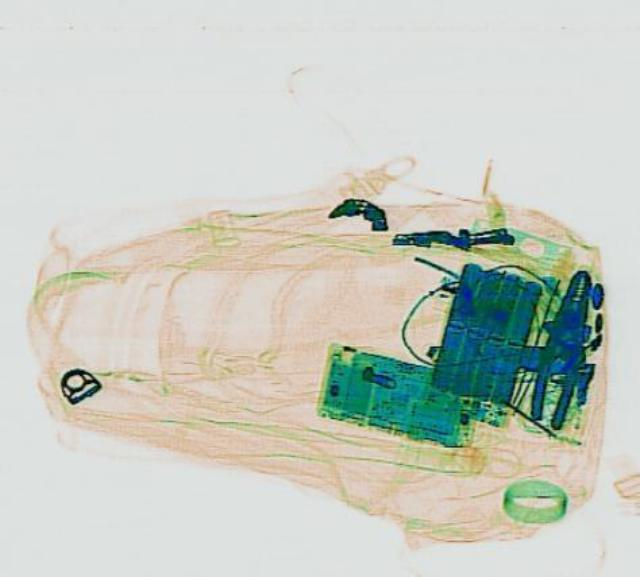Pliers: (520, 265, 604, 430)
